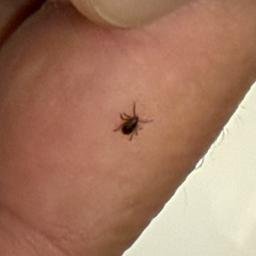Ixodes scapularis: (114, 106, 155, 141)
